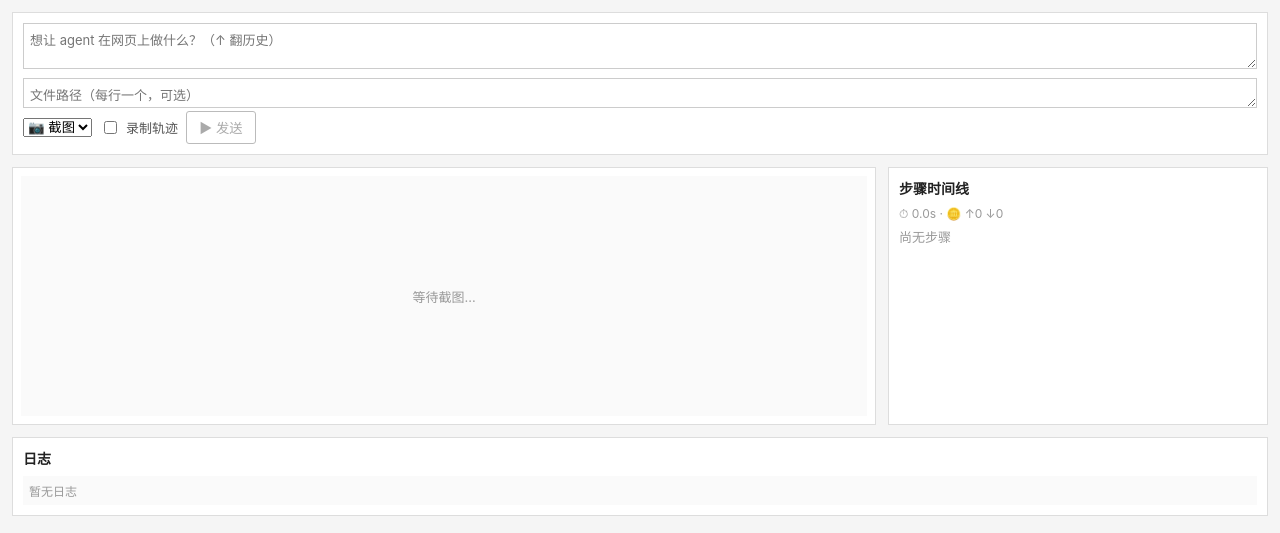
RunView (P6 M3) › 点击时间线 tool_call → 右 Context 面板出 params/xpath；✕ 关闭（T2 G M7）
The image size is (1280, 533).
In the text box with placeholder "想让 agent 在网页上做什么？（↑ 翻历史）": {"x": 640, "y": 46} top-left (23, 23), bottom-right (1257, 69), type "x"
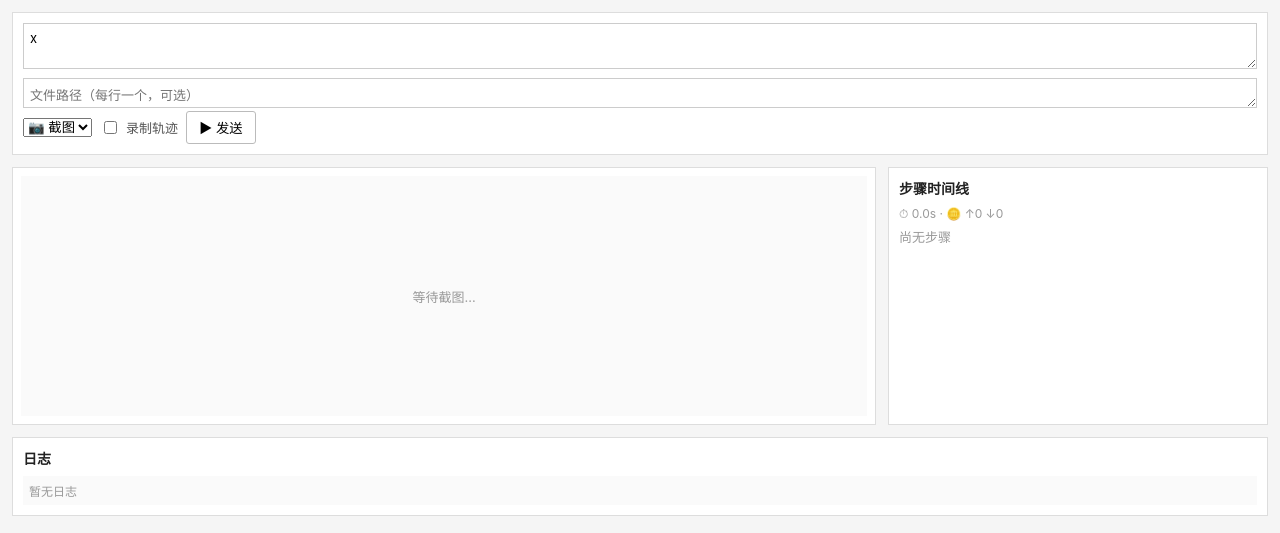
Click the button "▶ 发送": {"x": 221, "y": 128} top-left (186, 111), bottom-right (256, 144)
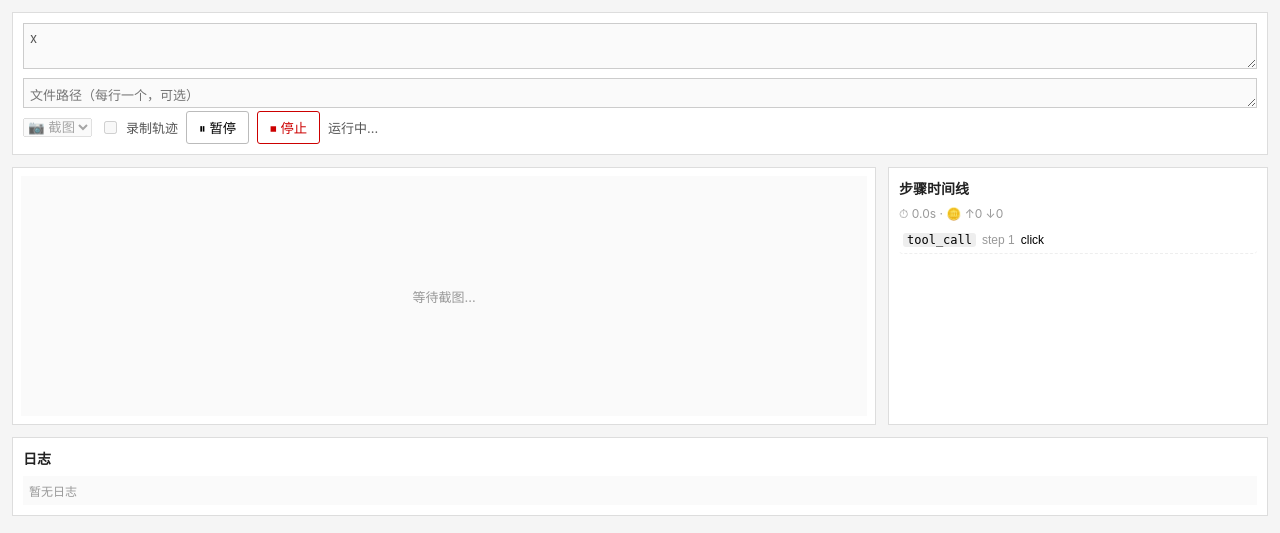
expect the button with class "evt-btn" is shown: met
Click the button with class "evt-btn": {"x": 940, "y": 240} top-left (899, 231), bottom-right (1257, 249)
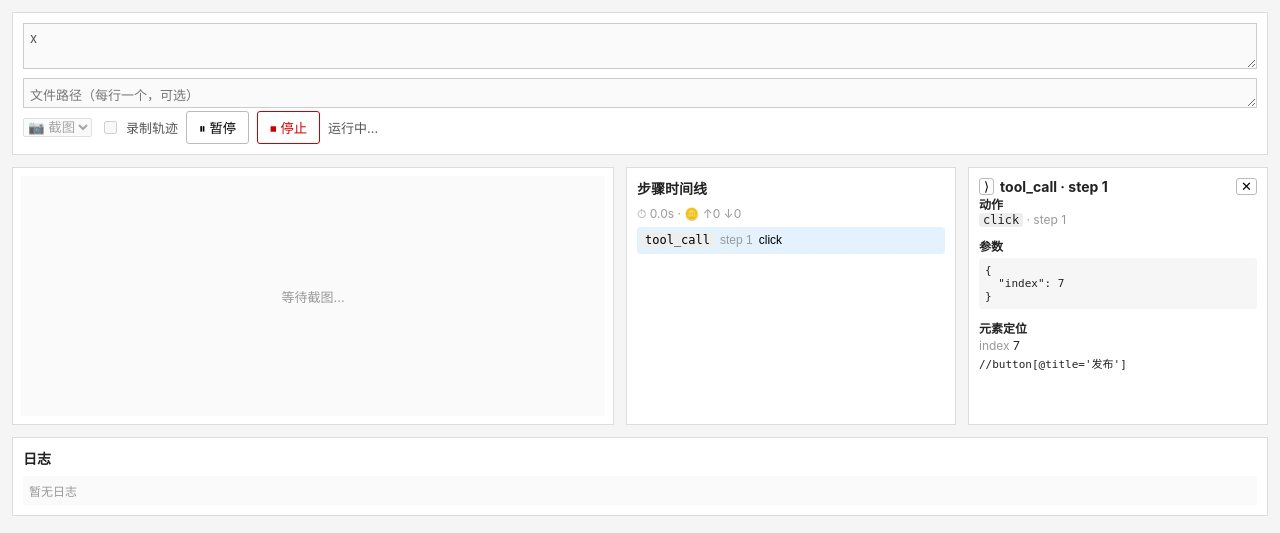
expect the element with class "context-panel" is shown: met, box top-left (968, 167), bottom-right (1268, 425)
expect the text "//button[@title='发布']" is shown: met, box top-left (979, 358), bottom-right (1127, 371)
expect the text "\"index\": 7" is shown: met, box top-left (985, 264), bottom-right (1064, 303)
Click the button with class "ctx-close": {"x": 1247, "y": 186} top-left (1236, 178), bottom-right (1257, 195)
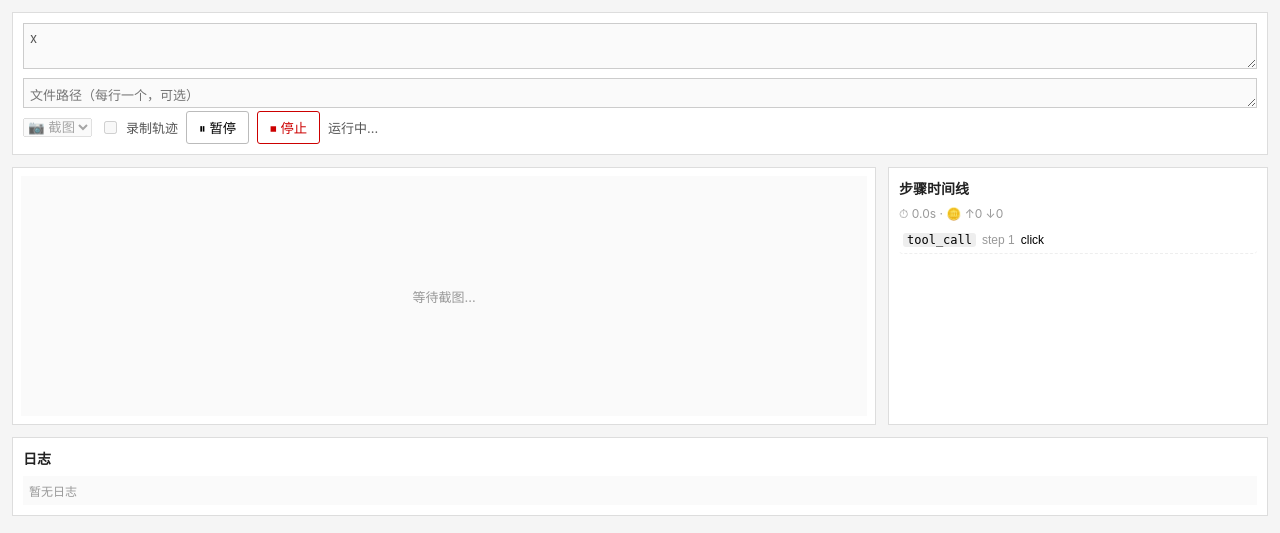
expect the element with class "context-panel" is gone: met
